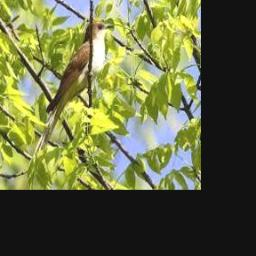Cuckoo: (32, 19, 114, 160)
